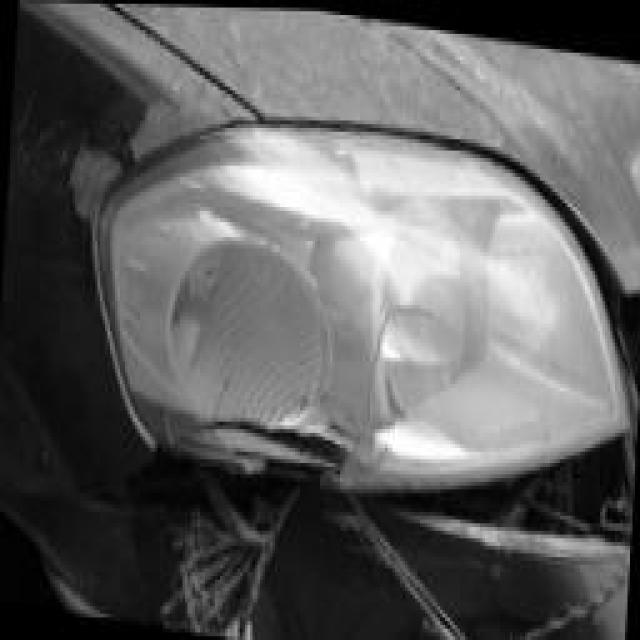Bumper: (0, 410, 618, 640)
Fender: (8, 49, 222, 224)
Light: (108, 109, 615, 537)
